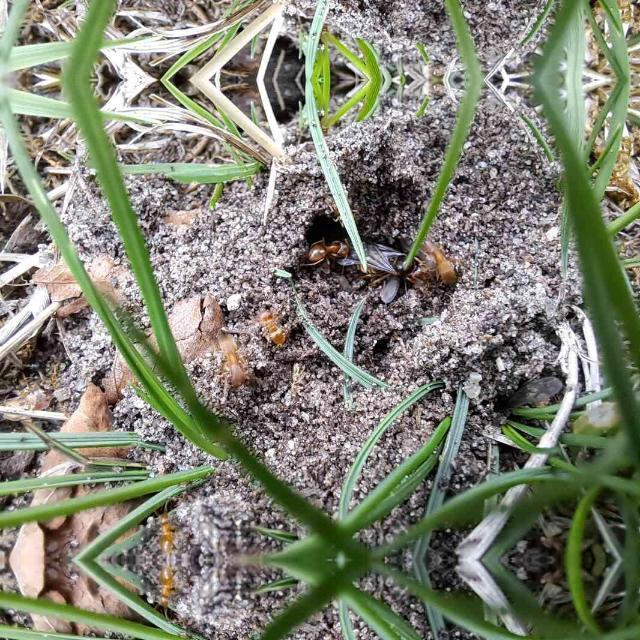Lasius: (348, 225, 432, 288), (244, 294, 296, 348), (208, 324, 246, 394), (421, 233, 464, 284), (304, 230, 350, 264), (158, 504, 176, 554), (158, 564, 176, 614)
